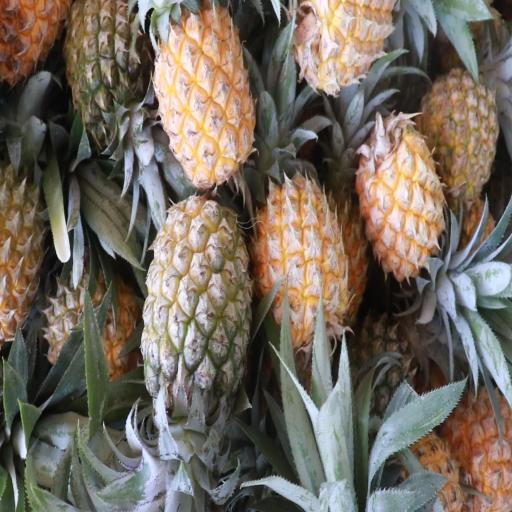------------------------------: (143, 194, 249, 413), (49, 261, 140, 396), (422, 71, 500, 205)
Pineapple - v8 v1: (154, 2, 252, 184), (258, 177, 346, 344), (356, 110, 442, 280), (0, 158, 54, 338)
